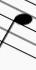note: (0, 1, 33, 60)
